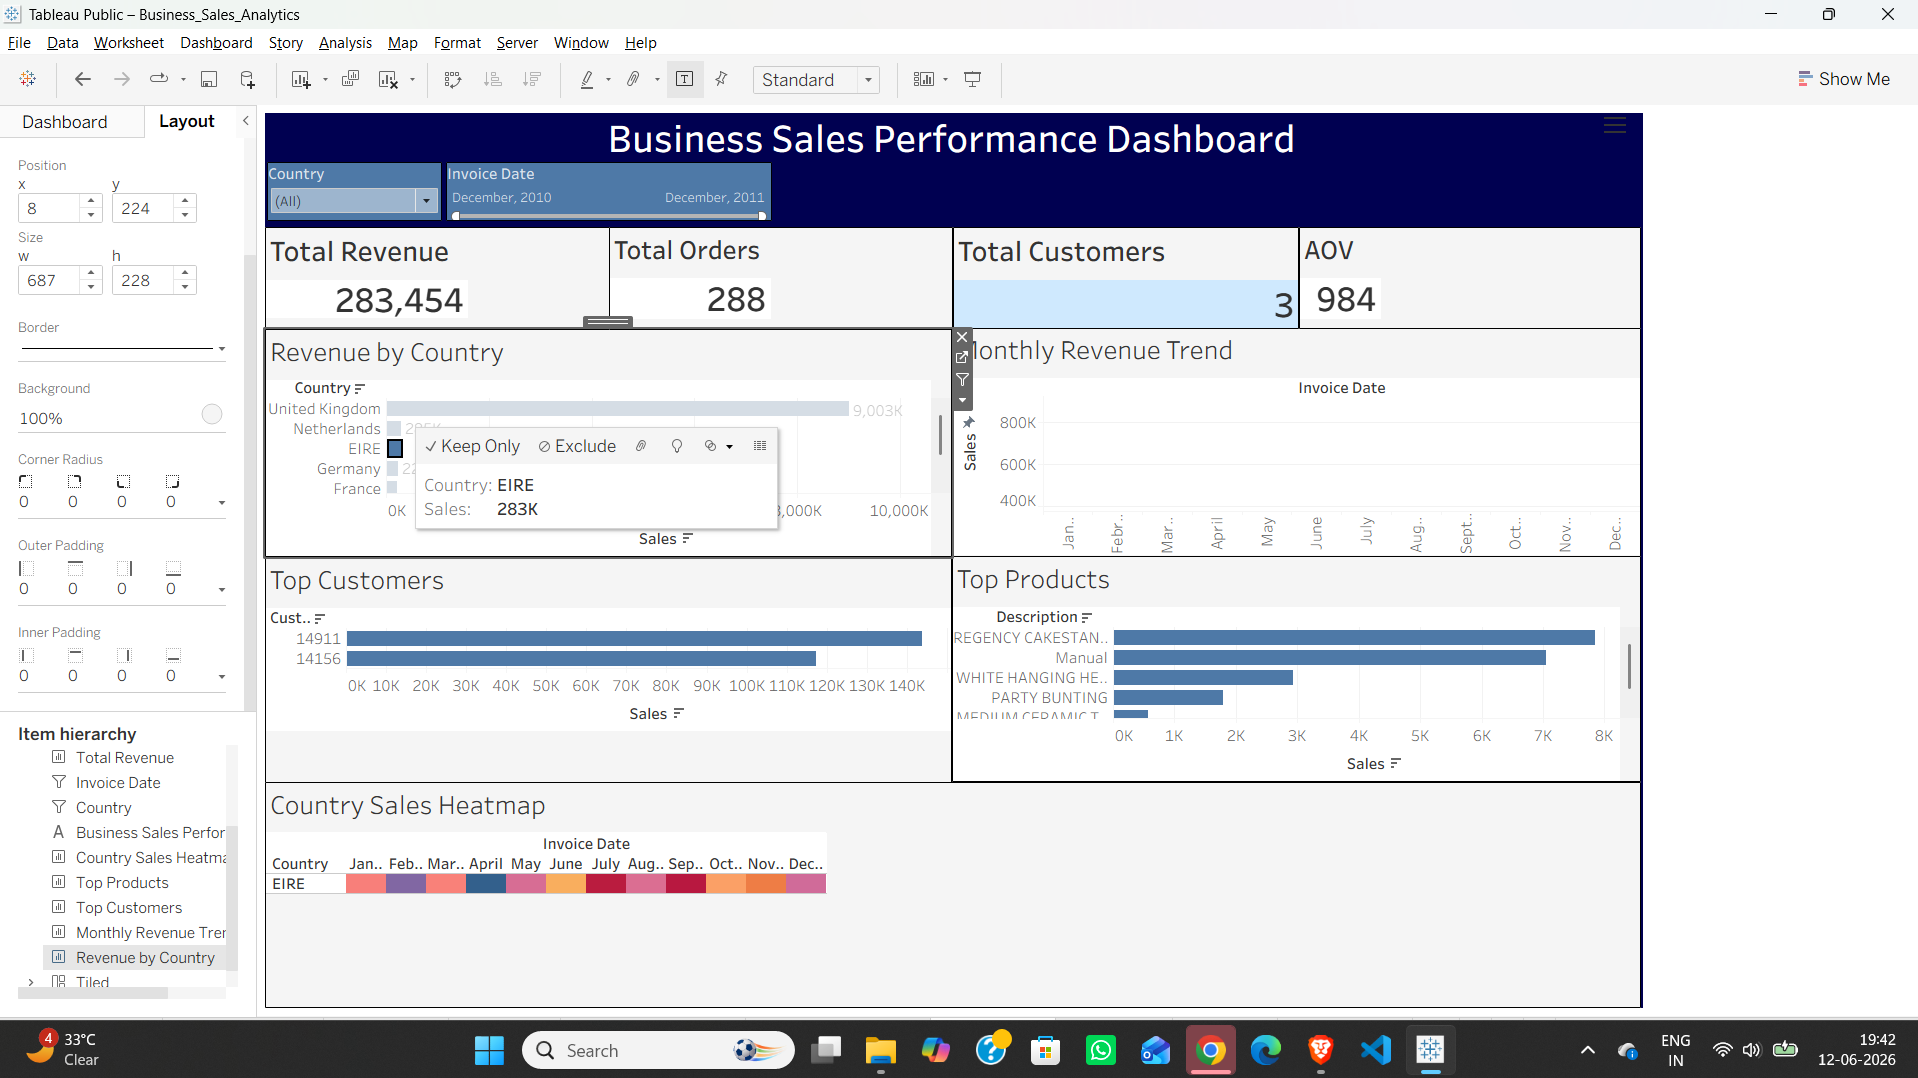

The dashboard page shown, as its layout file describes it:
{"tool":"tableau","page":{"name":"Dashboard 1","canvas":[1000,1000],"units":"permille","ordinal":0},"visuals":[{"type":"dashboard-object","box":[809.9,8.8,14.4,26.3]},{"type":"legend","title":"Country Sales Heatmap","param":"[federated.1iuu4250a9fq8915g2f7b0snzc5n].[sum:Calculation_1728168453922816:qk]","box":[833.9,8.8,161.3,80.1]},{"type":"text","box":[183.5,12.1,468.7,47.2]},{"type":"filter","title":"Revenue by Country","param":"[federated.1iuu4250a9fq8915g2f7b0snzc5n].[none:Country:nk]","box":[6,62.6,105,64.8]},{"type":"filter","title":"Revenue by Country","param":"[federated.1iuu4250a9fq8915g2f7b0snzc5n].[none:InvoiceDate:qk]","box":[113.5,62.6,196.3,64.8]},{"type":"worksheet","title":"Total Revenue","mark":"Automatic","box":[4.8,133.9,207.6,113.1]},{"type":"worksheet","title":"Total Orders","mark":"Automatic","box":[211.8,133.9,207,113.1]},{"type":"worksheet","title":"Total Customers","mark":"Automatic","box":[419,133.9,208.3,112]},{"type":"worksheet","title":"AOV","mark":"Automatic","box":[627,133.9,205.8,112]},{"type":"worksheet","title":"Monthly Revenue Trend","mark":"Automatic","rows":["Calculation_1728168453922816"],"cols":["InvoiceDate"],"box":[417.6,243.7,415.2,252.5]},{"type":"worksheet","title":"Revenue by Country","mark":"Automatic","rows":["Country"],"cols":["Calculation_1728168453922816"],"box":[4.8,245.9,413.4,250.3]},{"type":"worksheet","title":"Top Products","mark":"Automatic","rows":["Description"],"cols":["Calculation_1728168453922816"],"box":[418.4,495.1,414.8,248.1]},{"type":"worksheet","title":"Top Customers","mark":"Automatic","rows":["CustomerID"],"cols":["Calculation_1728168453922816"],"box":[4.8,496.2,413.4,248.1]},{"type":"worksheet","title":"Country Sales Heatmap","mark":"Automatic","rows":["Country"],"cols":["InvoiceDate"],"box":[4.8,743.1,827.8,248.1]}]}

Visuals, with their boxes on the dashboard's canvas, which has no fixed pixel size, in thousandths of its width and height (x1, y1, x2, y2). These are canvas units, not pixel positions in the 1918x1078 screenshot, which may show the page scaled, cropped or inside an application window:
dashboard-object: (x1=810, y1=9, x2=824, y2=35)
"Country Sales Heatmap" legend: (x1=834, y1=9, x2=995, y2=89)
text: (x1=184, y1=12, x2=652, y2=59)
"Revenue by Country" filter: (x1=6, y1=63, x2=111, y2=127)
"Revenue by Country" filter: (x1=114, y1=63, x2=310, y2=127)
"Total Revenue" worksheet: (x1=5, y1=134, x2=212, y2=247)
"Total Orders" worksheet: (x1=212, y1=134, x2=419, y2=247)
"Total Customers" worksheet: (x1=419, y1=134, x2=627, y2=246)
"AOV" worksheet: (x1=627, y1=134, x2=833, y2=246)
"Monthly Revenue Trend" worksheet: (x1=418, y1=244, x2=833, y2=496)
"Revenue by Country" worksheet: (x1=5, y1=246, x2=418, y2=496)
"Top Products" worksheet: (x1=418, y1=495, x2=833, y2=743)
"Top Customers" worksheet: (x1=5, y1=496, x2=418, y2=744)
"Country Sales Heatmap" worksheet: (x1=5, y1=743, x2=833, y2=991)
